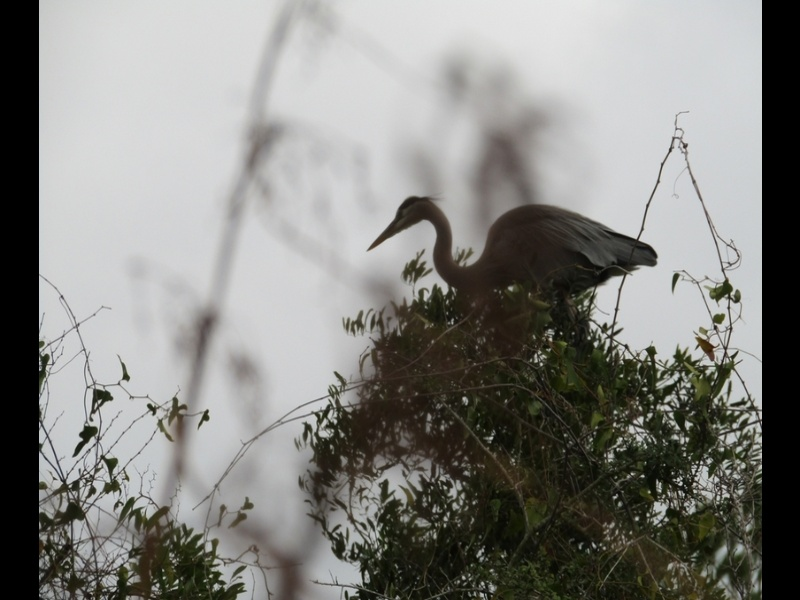heron: (363, 193, 659, 309)
